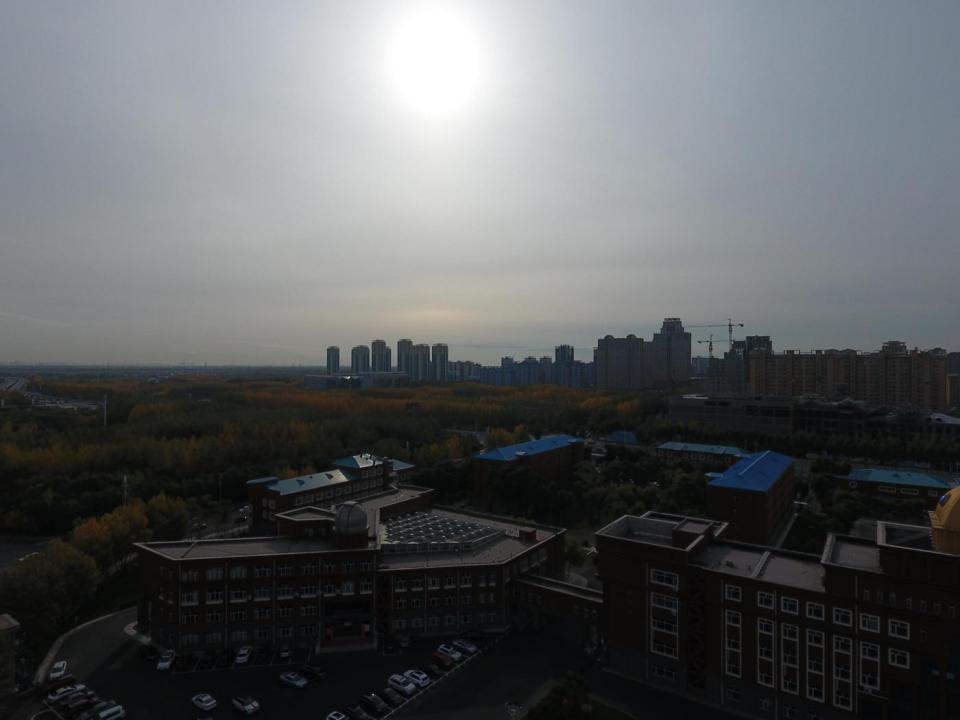car: (47, 684, 86, 704), (80, 700, 115, 720), (231, 693, 260, 717), (387, 674, 416, 695), (279, 670, 307, 688), (191, 694, 217, 712), (403, 670, 429, 688), (68, 696, 99, 711), (156, 648, 176, 671), (60, 691, 94, 704), (438, 644, 461, 662), (452, 637, 476, 654), (419, 661, 442, 678), (48, 660, 66, 680), (430, 652, 452, 668), (236, 645, 252, 663), (326, 711, 350, 720), (190, 522, 208, 530), (234, 515, 249, 522), (239, 506, 251, 513), (606, 442, 617, 447), (587, 440, 597, 445), (596, 447, 605, 452)
van: (359, 691, 388, 715), (91, 704, 126, 720), (300, 662, 327, 682), (45, 674, 75, 691), (377, 687, 403, 706), (399, 633, 416, 649), (279, 640, 292, 658)
